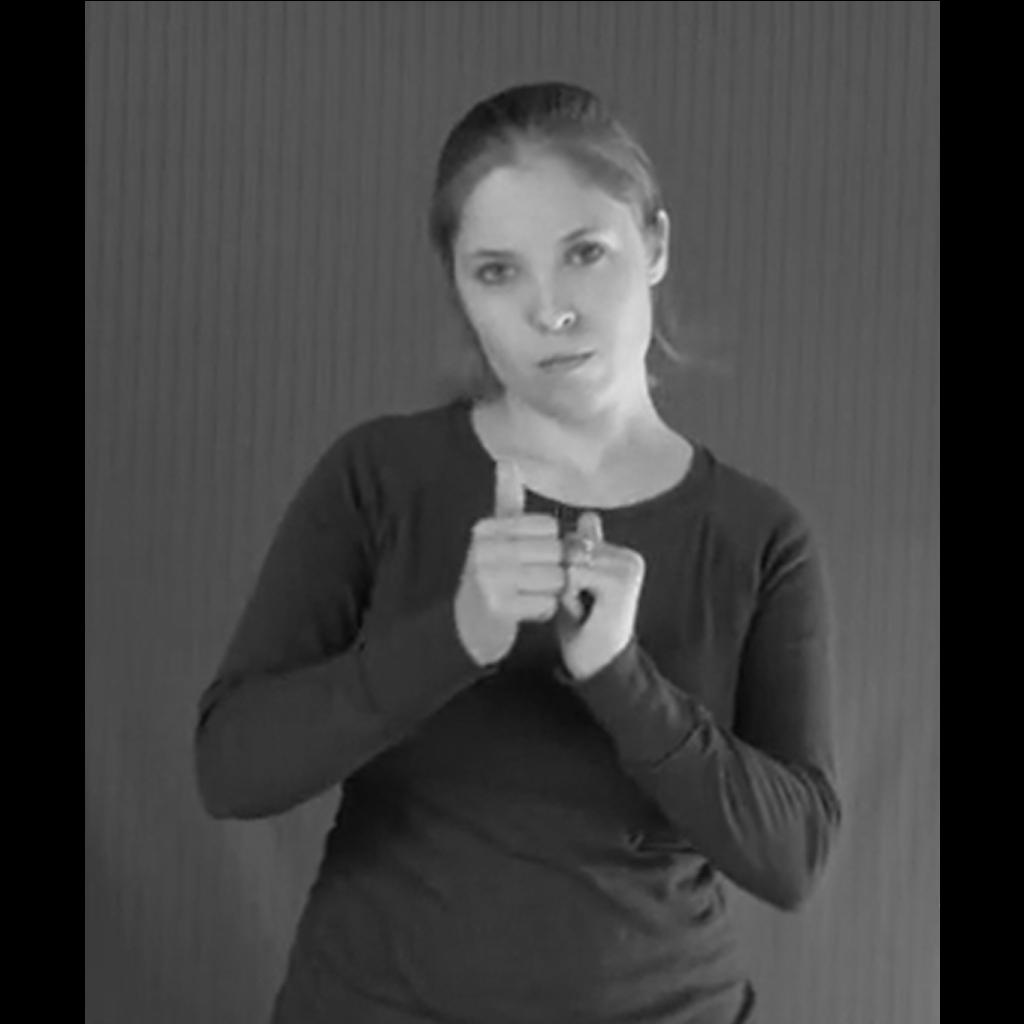how: (456, 457, 644, 663)
